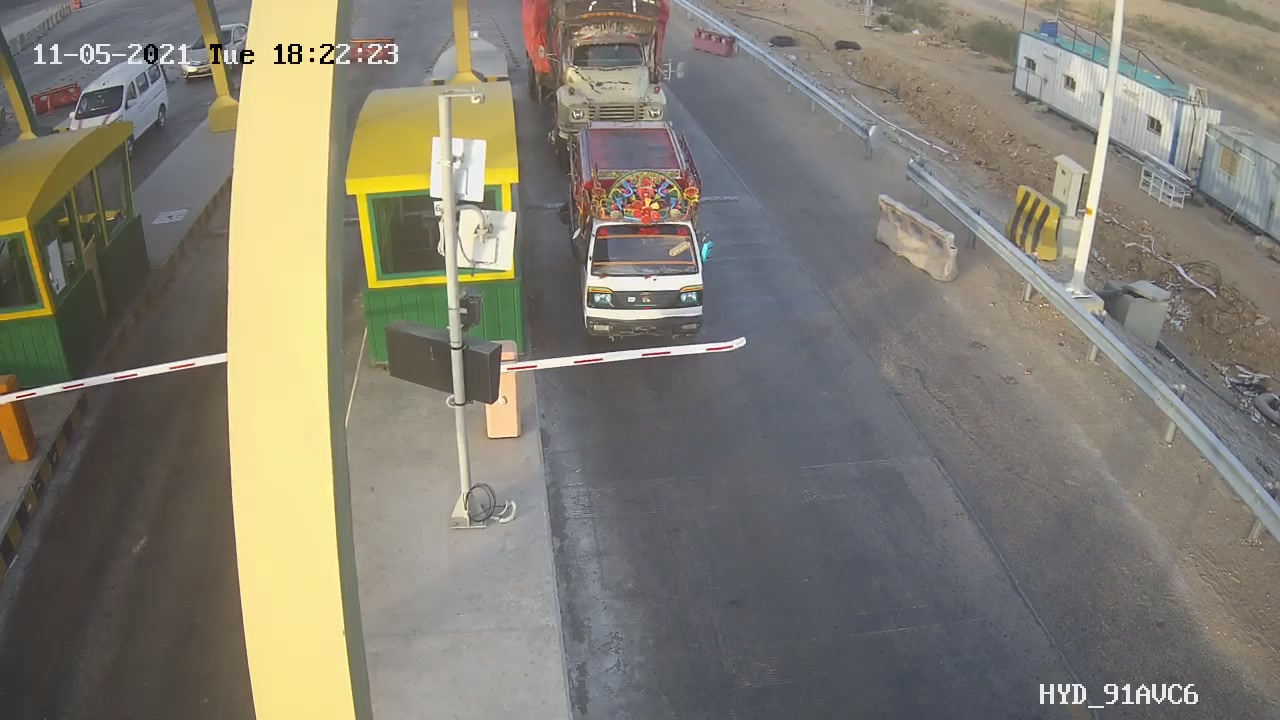F1: (567, 118, 721, 348)
